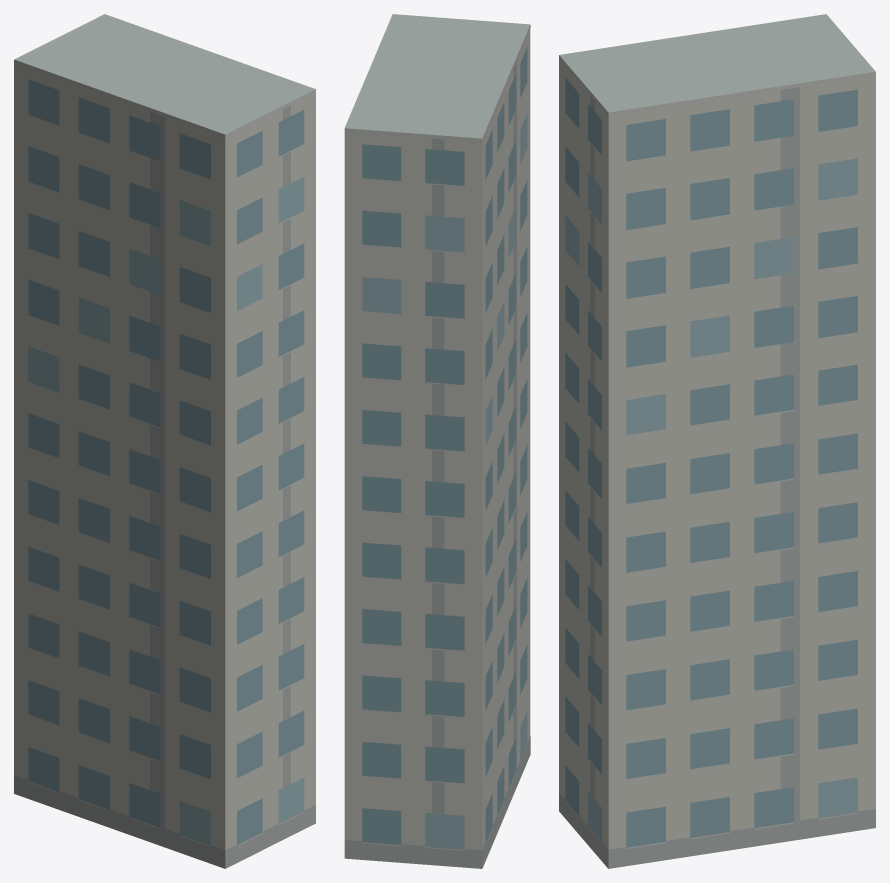
The model's file is residential-cd1b042a-deda-40fd-af63-badfc671c59e.glb.
3 views of the same model, side by side, from view 1: azimuth 30°, elevation 25°; view 2: azimuth 150°, elevation 25°; view 3: azimuth 270°, elevation 25° (orthographic). The views are drawn at different scales.
Visible parts, largest first — view 1: residential-cd1b042a-deda-40fd-af63-badfc671c59e.tmp; view 2: residential-cd1b042a-deda-40fd-af63-badfc671c59e.tmp; view 3: residential-cd1b042a-deda-40fd-af63-badfc671c59e.tmp.
Part boxes in pixels (box(x1,y1,x2,y2)): residential-cd1b042a-deda-40fd-af63-badfc671c59e.tmp: box(14, 14, 315, 868); residential-cd1b042a-deda-40fd-af63-badfc671c59e.tmp: box(344, 14, 530, 868); residential-cd1b042a-deda-40fd-af63-badfc671c59e.tmp: box(559, 14, 875, 868).
Bounding box in the file's own units: 13.41 × 48 × 18.22.
